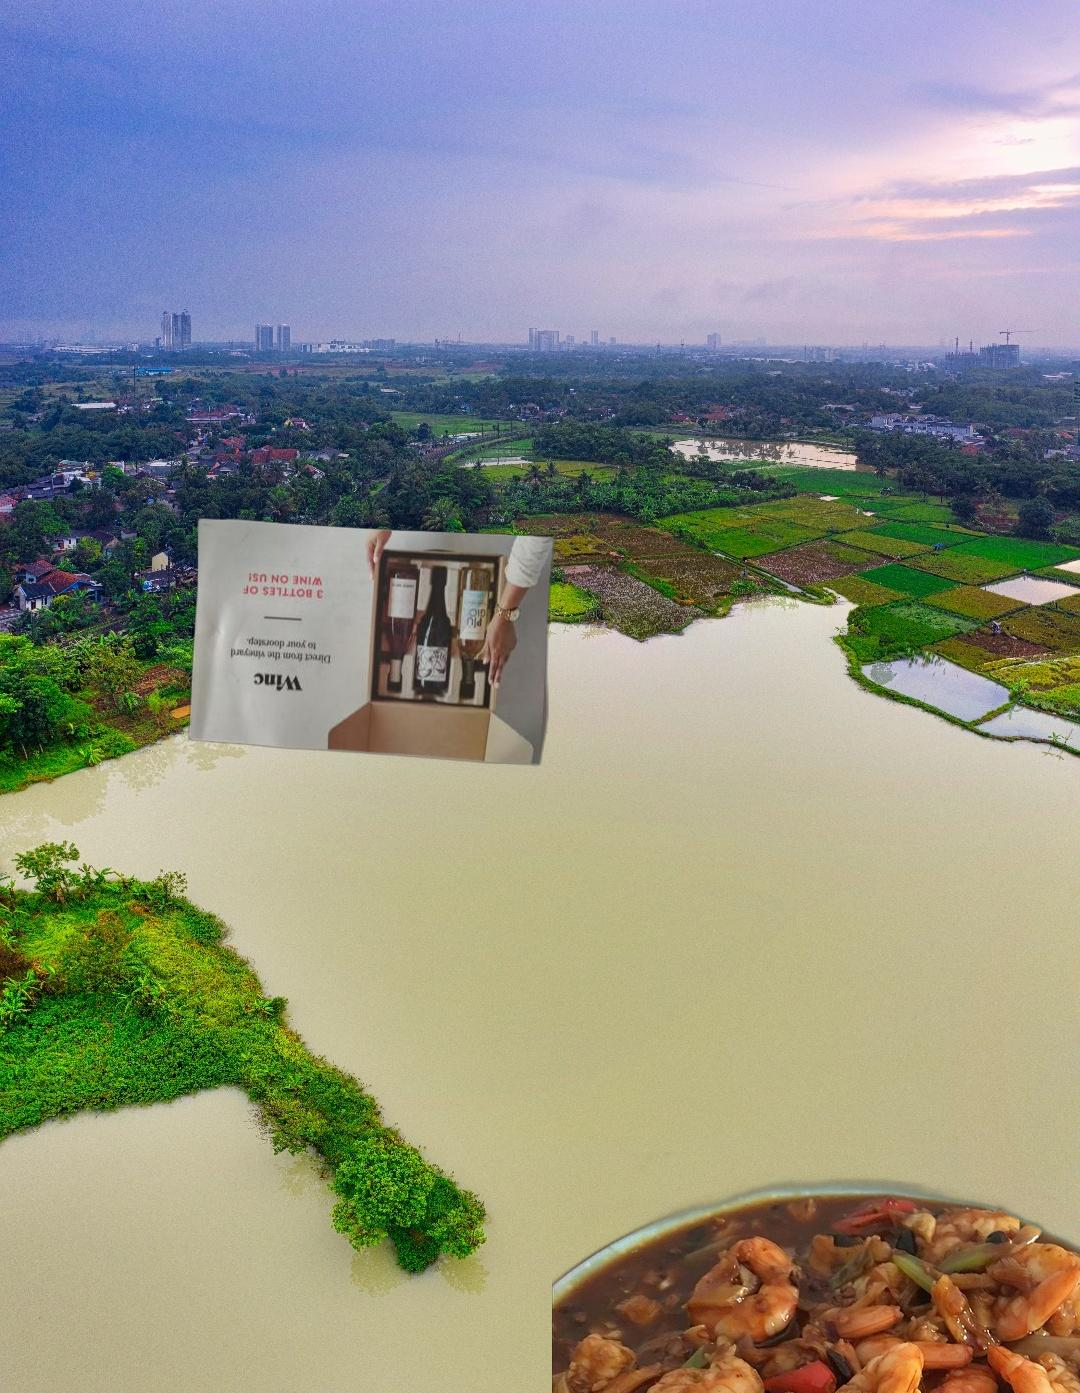biological: (552, 1152, 1080, 1393)
paper: (185, 515, 560, 769)
trashbox-cardboard: (637, 1324, 1080, 1393)
